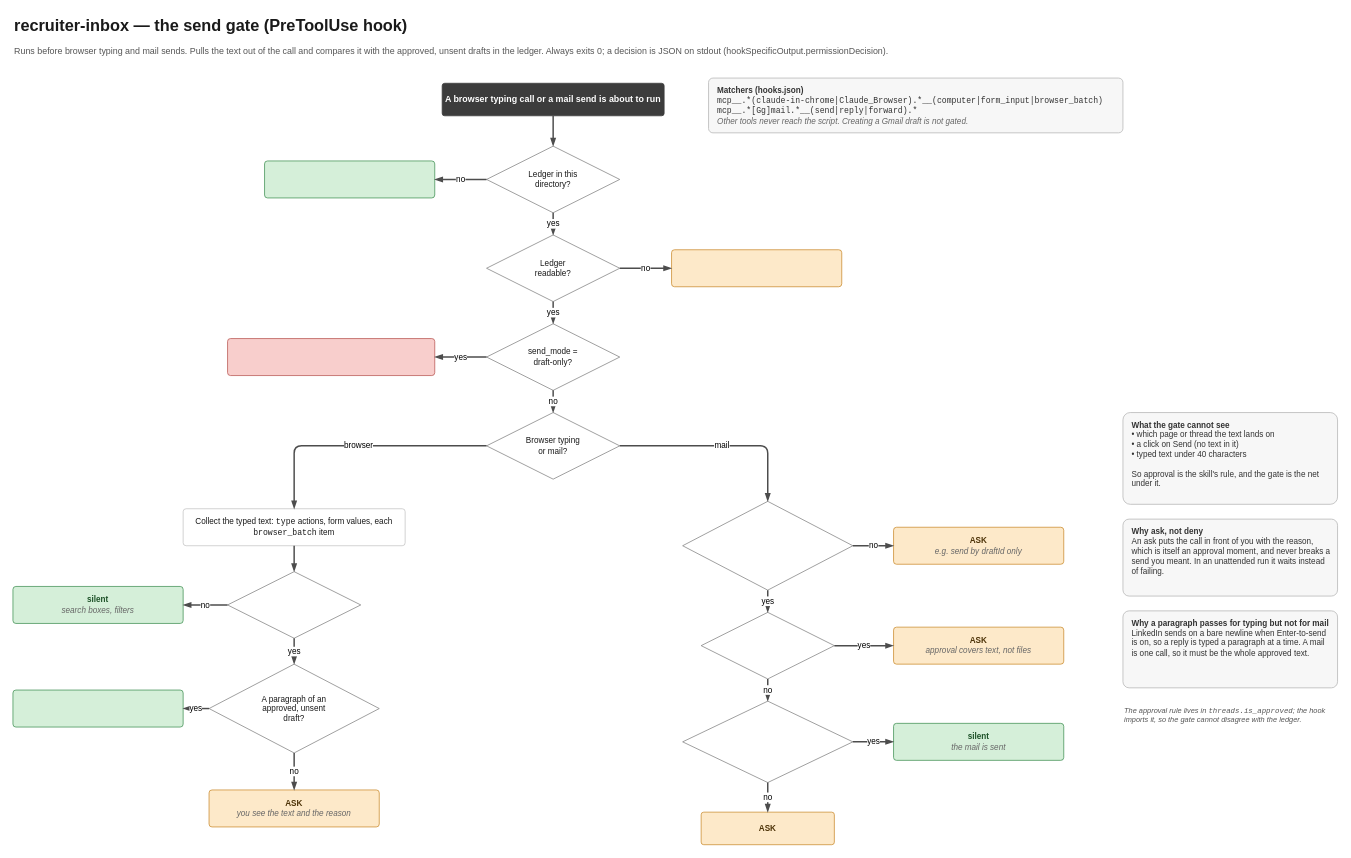
Some shapes in this 1351 by 858 pixel diagram are drawn without their labels. Each missing label, with the centre of its shape:
"40 characters or more?" belongs at pixel 294 604.
"ASK can't check approvals" belongs at pixel 756 268.
"Attachments?" belongs at pixel 767 645.
"Body visible? body / htmlBody, HTML stripped" belongs at pixel 767 545.
"DENY nothing typed or sent; hand the draft to the user" belongs at pixel 331 357.
"Exactly the whole approved draft?" belongs at pixel 767 741.
"silent not a job-search workspace" belongs at pixel 349 179.
"silent the call proceeds" belongs at pixel 97 708.
